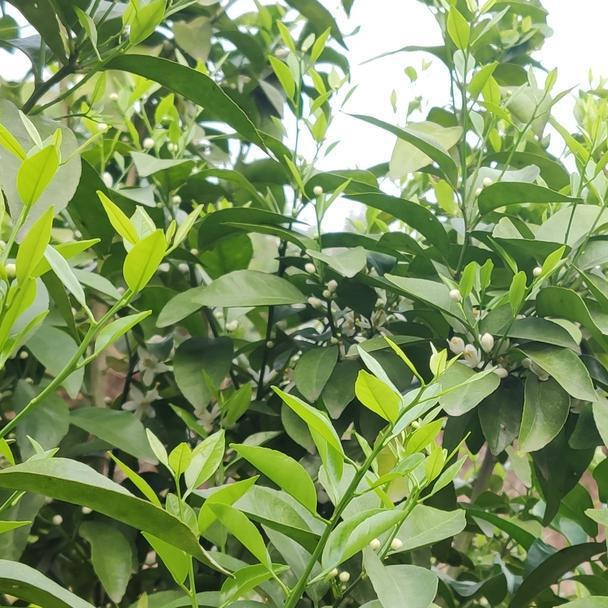shoot: (287, 344, 496, 523), (48, 199, 195, 386), (132, 428, 254, 581)
